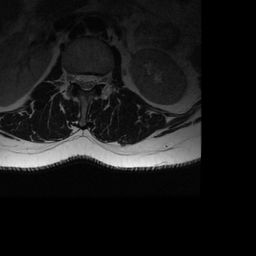CCS_normal: (82, 64, 90, 97)
LFS_normal: (98, 65, 105, 91)
LLS_normal: (90, 65, 98, 93)
RFS_normal: (67, 63, 74, 90)
RLS_normal: (74, 64, 82, 92)
